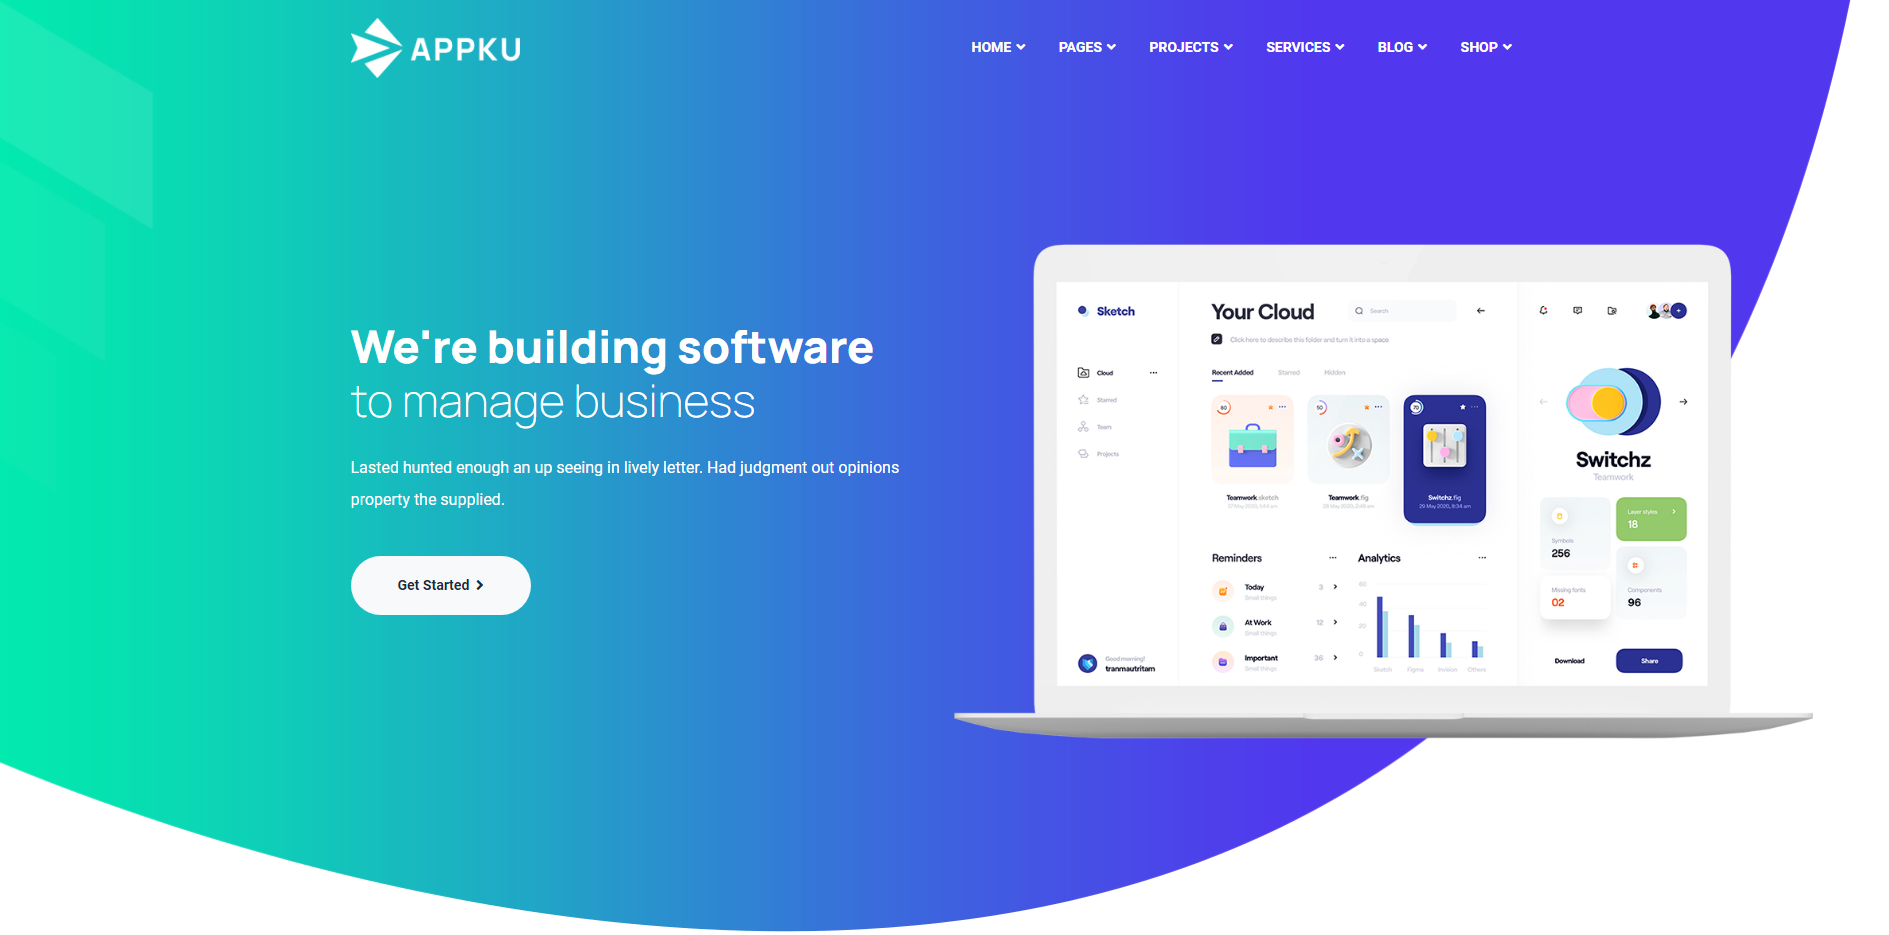menu-bar: (92, 5, 1865, 176)
